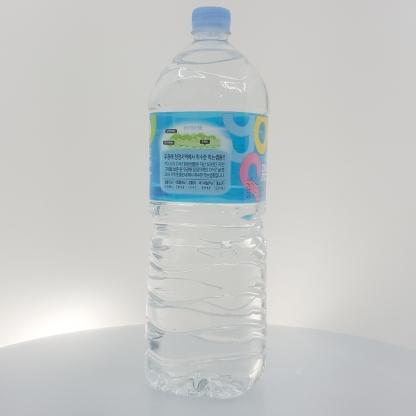--------1-5L: (143, 6, 270, 399)
